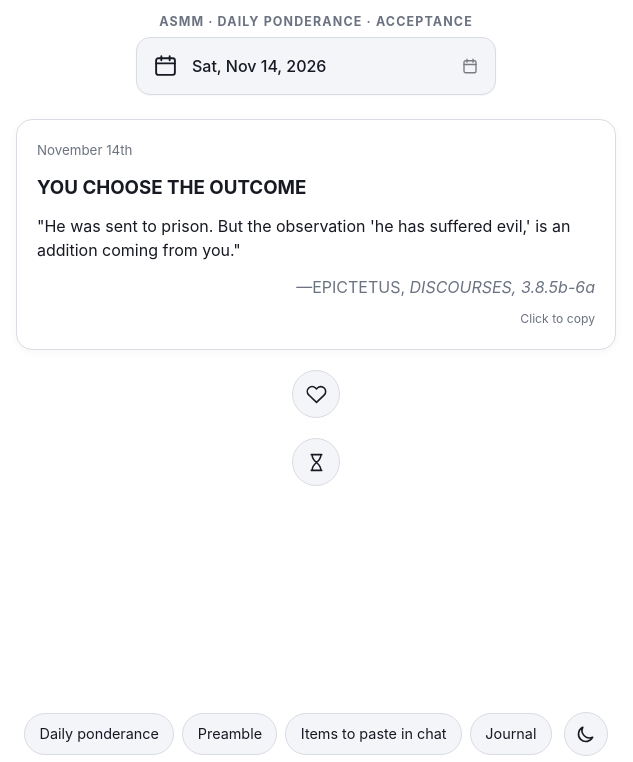
Test: app journeys › shows copy failure feedback when clipboard access is denied
Click the button with class "reading-copy-button": [558, 320] box 520,310 -> 595,329
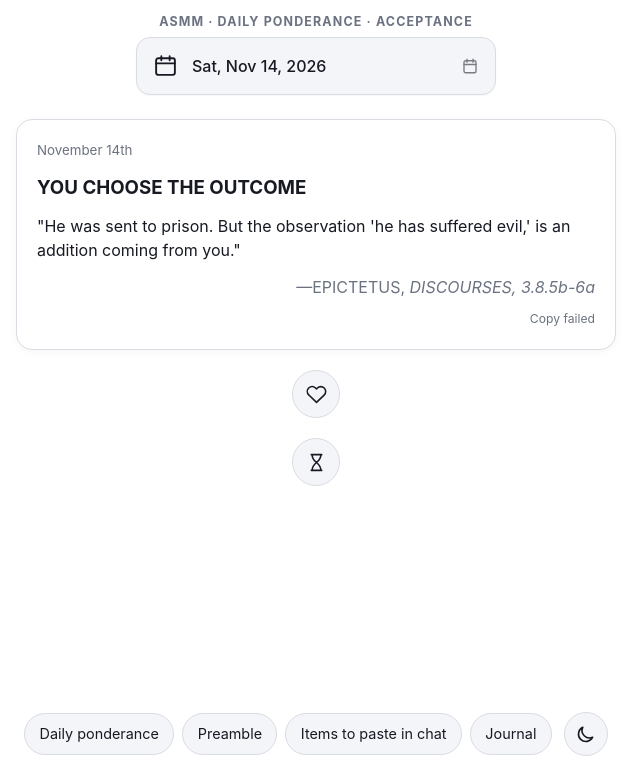
Check: the button "Copy failed" is shown, box 530,310 -> 595,329
